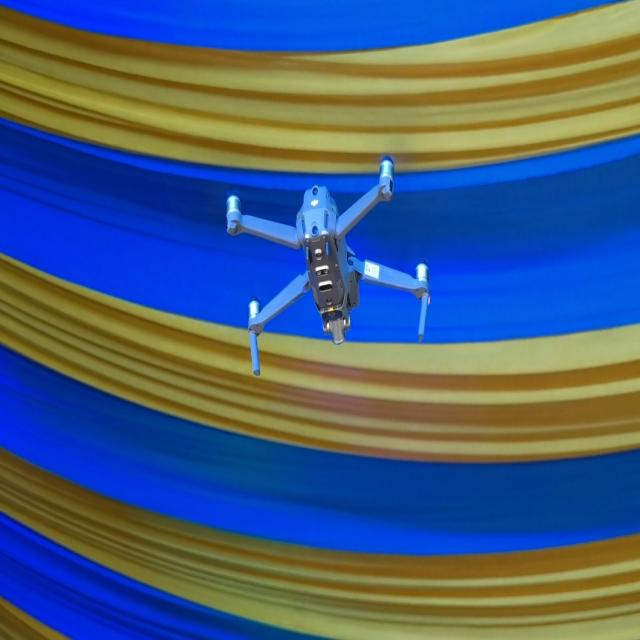Drone: (229, 166, 425, 373)
